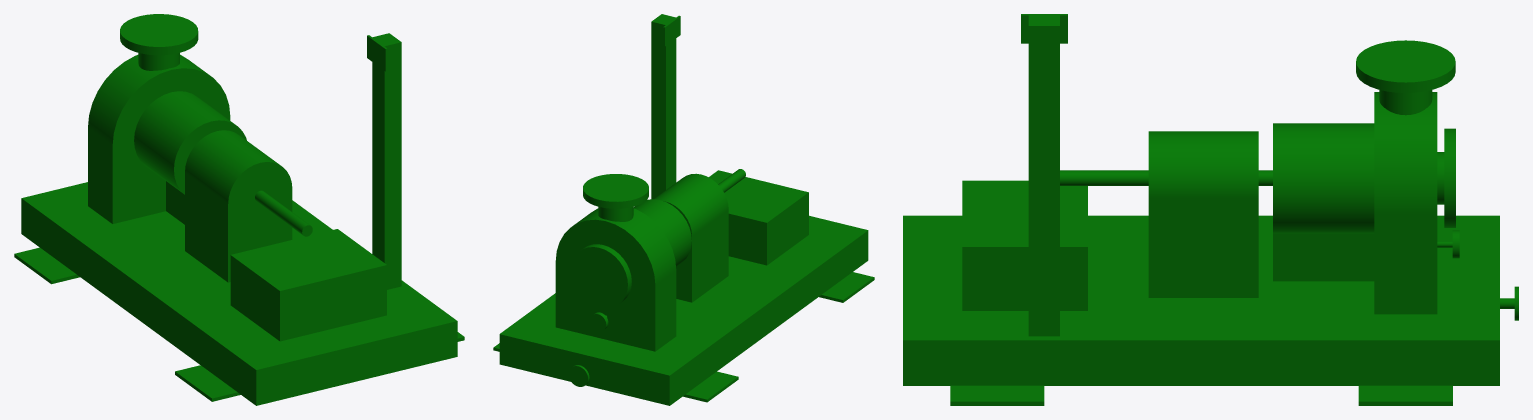
File: Image-1711348185370-2281129960528_50-PA51A.fbx
3 renders of one model, left to right at view 1: azimuth 30°, elevation 25°; view 2: azimuth 150°, elevation 25°; view 3: azimuth 270°, elevation 25°, orthographic. The views are drawn at different scales.
Parts seen in each view (by area): view 1: BOX 1 of SUBEQUIPMENT /50-PA51A/PRIM, BOX 8 of SUBEQUIPMENT /50-PA51A/PRIM, CYLINDER 1 of SUBEQUIPMENT /50-PA51A/PRIM, BOX 9 of SUBEQUIPMENT /50-PA51A/PRIM, CYLINDER 3 of SUBEQUIPMENT /50-PA51A/PRIM, CYLINDER 2 of SUBEQUIPMENT /50-PA51A/PRIM, BOX 7 of SUBEQUIPMENT /50-PA51A/PRIM, BOX 6 of SUBEQUIPMENT /50-PA51A/PRIM, /50-PA51A/N2, BOX 2 of SUBEQUIPMENT /50-PA51A/PRIM, BOX 3 of SUBEQUIPMENT /50-PA51A/PRIM, CYLINDER 4 of SUBEQUIPMENT /50-PA51A/PRIM (+2 smaller); view 2: BOX 1 of SUBEQUIPMENT /50-PA51A/PRIM, BOX 6 of SUBEQUIPMENT /50-PA51A/PRIM, BOX 8 of SUBEQUIPMENT /50-PA51A/PRIM, CYLINDER 1 of SUBEQUIPMENT /50-PA51A/PRIM, BOX 9 of SUBEQUIPMENT /50-PA51A/PRIM, BOX 7 of SUBEQUIPMENT /50-PA51A/PRIM, /50-PA51A/N1, CYLINDER 3 of SUBEQUIPMENT /50-PA51A/PRIM, /50-PA51A/N2, CYLINDER 2 of SUBEQUIPMENT /50-PA51A/PRIM, BOX 2 of SUBEQUIPMENT /50-PA51A/PRIM, BOX 3 of SUBEQUIPMENT /50-PA51A/PRIM (+2 smaller); view 3: BOX 1 of SUBEQUIPMENT /50-PA51A/PRIM, BOX 8 of SUBEQUIPMENT /50-PA51A/PRIM, CYLINDER 2 of SUBEQUIPMENT /50-PA51A/PRIM, BOX 7 of SUBEQUIPMENT /50-PA51A/PRIM, BOX 9 of SUBEQUIPMENT /50-PA51A/PRIM, CYLINDER 3 of SUBEQUIPMENT /50-PA51A/PRIM, CYLINDER 1 of SUBEQUIPMENT /50-PA51A/PRIM, BOX 6 of SUBEQUIPMENT /50-PA51A/PRIM, /50-PA51A/N2, BOX 11 of SUBEQUIPMENT /50-PA51A/PRIM, BOX 4 of SUBEQUIPMENT /50-PA51A/PRIM, BOX 5 of SUBEQUIPMENT /50-PA51A/PRIM (+3 smaller).
Boxes of the visible parts, left/top/right/bottom form: BOX 1 of SUBEQUIPMENT /50-PA51A/PRIM: left=21, top=182, right=457, bottom=405; BOX 8 of SUBEQUIPMENT /50-PA51A/PRIM: left=230, top=229, right=386, bottom=341; CYLINDER 1 of SUBEQUIPMENT /50-PA51A/PRIM: left=88, top=54, right=230, bottom=193; BOX 9 of SUBEQUIPMENT /50-PA51A/PRIM: left=372, top=33, right=401, bottom=289; CYLINDER 3 of SUBEQUIPMENT /50-PA51A/PRIM: left=185, top=130, right=292, bottom=230; CYLINDER 2 of SUBEQUIPMENT /50-PA51A/PRIM: left=134, top=91, right=246, bottom=194; BOX 7 of SUBEQUIPMENT /50-PA51A/PRIM: left=185, top=173, right=292, bottom=282; BOX 6 of SUBEQUIPMENT /50-PA51A/PRIM: left=88, top=117, right=230, bottom=223; /50-PA51A/N2: left=120, top=14, right=198, bottom=70; BOX 2 of SUBEQUIPMENT /50-PA51A/PRIM: left=14, top=247, right=79, bottom=284; BOX 3 of SUBEQUIPMENT /50-PA51A/PRIM: left=175, top=365, right=240, bottom=401; CYLINDER 4 of SUBEQUIPMENT /50-PA51A/PRIM: left=255, top=190, right=312, bottom=236; BOX 1 of SUBEQUIPMENT /50-PA51A/PRIM: left=499, top=215, right=868, bottom=405; BOX 6 of SUBEQUIPMENT /50-PA51A/PRIM: left=555, top=261, right=676, bottom=351; BOX 8 of SUBEQUIPMENT /50-PA51A/PRIM: left=709, top=170, right=808, bottom=265; CYLINDER 1 of SUBEQUIPMENT /50-PA51A/PRIM: left=555, top=208, right=676, bottom=326; BOX 9 of SUBEQUIPMENT /50-PA51A/PRIM: left=651, top=14, right=676, bottom=199; BOX 7 of SUBEQUIPMENT /50-PA51A/PRIM: left=676, top=210, right=728, bottom=302; /50-PA51A/N1: left=570, top=244, right=631, bottom=308; CYLINDER 3 of SUBEQUIPMENT /50-PA51A/PRIM: left=654, top=173, right=728, bottom=236; /50-PA51A/N2: left=583, top=174, right=648, bottom=221; CYLINDER 2 of SUBEQUIPMENT /50-PA51A/PRIM: left=633, top=199, right=691, bottom=266; BOX 2 of SUBEQUIPMENT /50-PA51A/PRIM: left=683, top=371, right=738, bottom=402; BOX 3 of SUBEQUIPMENT /50-PA51A/PRIM: left=819, top=272, right=874, bottom=302; BOX 1 of SUBEQUIPMENT /50-PA51A/PRIM: left=903, top=215, right=1499, bottom=385; BOX 8 of SUBEQUIPMENT /50-PA51A/PRIM: left=962, top=180, right=1087, bottom=310; CYLINDER 2 of SUBEQUIPMENT /50-PA51A/PRIM: left=1273, top=123, right=1374, bottom=233; BOX 7 of SUBEQUIPMENT /50-PA51A/PRIM: left=1148, top=198, right=1258, bottom=297; BOX 9 of SUBEQUIPMENT /50-PA51A/PRIM: left=1028, top=15, right=1059, bottom=336; CYLINDER 3 of SUBEQUIPMENT /50-PA51A/PRIM: left=1148, top=131, right=1258, bottom=198; CYLINDER 1 of SUBEQUIPMENT /50-PA51A/PRIM: left=1374, top=92, right=1437, bottom=214; BOX 6 of SUBEQUIPMENT /50-PA51A/PRIM: left=1374, top=214, right=1437, bottom=314; /50-PA51A/N2: left=1356, top=40, right=1455, bottom=115; BOX 11 of SUBEQUIPMENT /50-PA51A/PRIM: left=1273, top=233, right=1374, bottom=281; BOX 4 of SUBEQUIPMENT /50-PA51A/PRIM: left=950, top=385, right=1044, bottom=405; BOX 5 of SUBEQUIPMENT /50-PA51A/PRIM: left=1358, top=385, right=1452, bottom=405.
Bounding box in the file's own units: 1.18 × 1.96 × 1.26.
